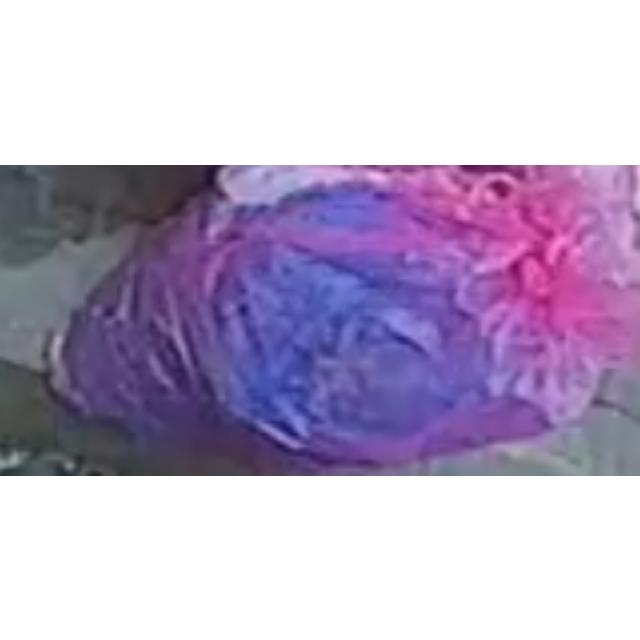other_trashbag: (50, 164, 640, 461)
